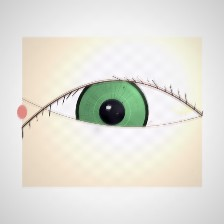pinguecula_lesion: (158, 91, 205, 128)
